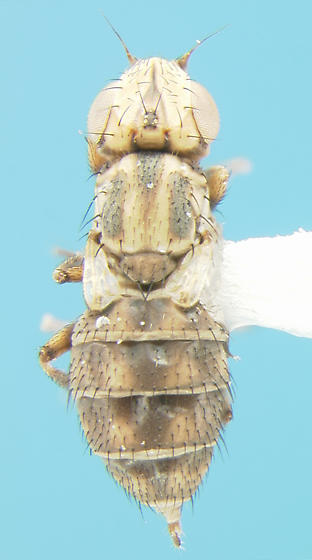Chloropidae: (38, 14, 243, 540)
